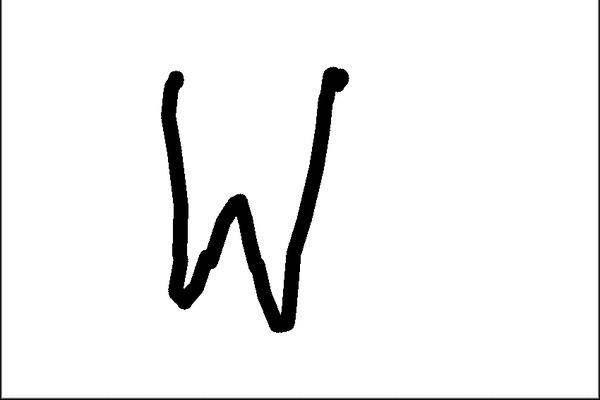w: (128, 52, 351, 356)
